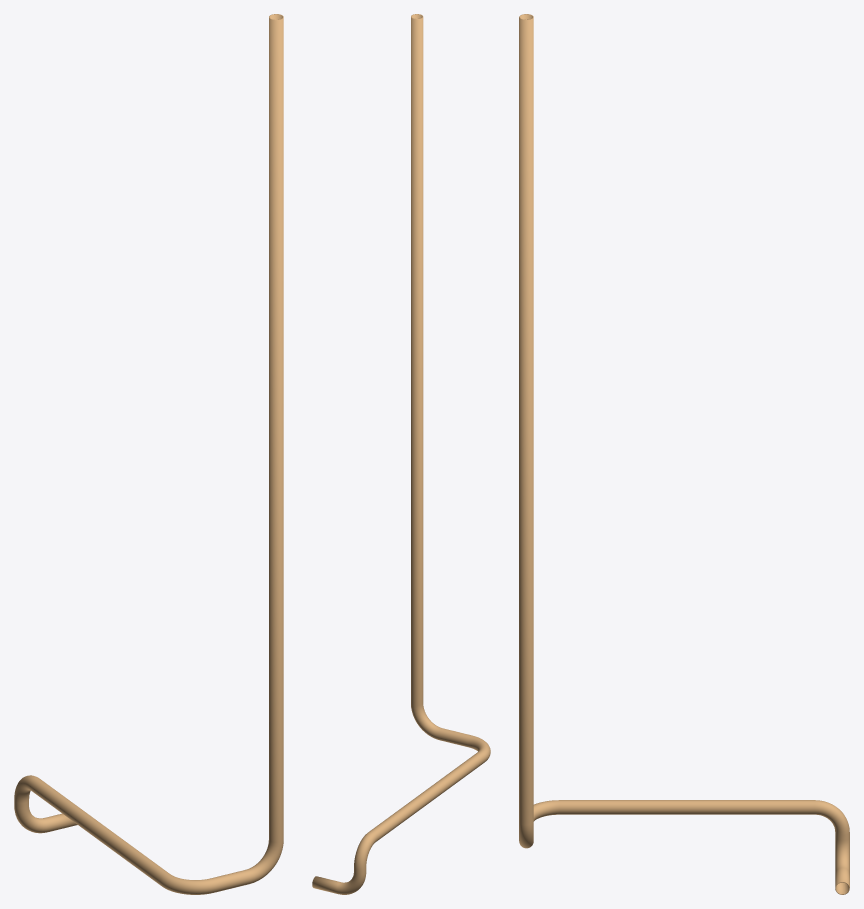
The model's file is slab_pipes_supply__softener-yes_and_plumbing-copper_and_water-well.glb.
3 views of the same model, side by side, from view 1: azimuth 30°, elevation 25°; view 2: azimuth 150°, elevation 25°; view 3: azimuth 270°, elevation 25° (orthographic). The views are drawn at different scales.
Visible parts, largest first — view 1: pipe_supply_softener_feed__copper.901; view 2: pipe_supply_softener_feed__copper.901; view 3: pipe_supply_softener_feed__copper.901.
Boxes of the visible parts, x1,y1,x2,y2 form: pipe_supply_softener_feed__copper.901: [14, 14, 283, 894]; pipe_supply_softener_feed__copper.901: [312, 14, 490, 894]; pipe_supply_softener_feed__copper.901: [519, 14, 849, 894].
Bounding box in the file's own units: 0.1821 × 1.5 × 0.5022.
